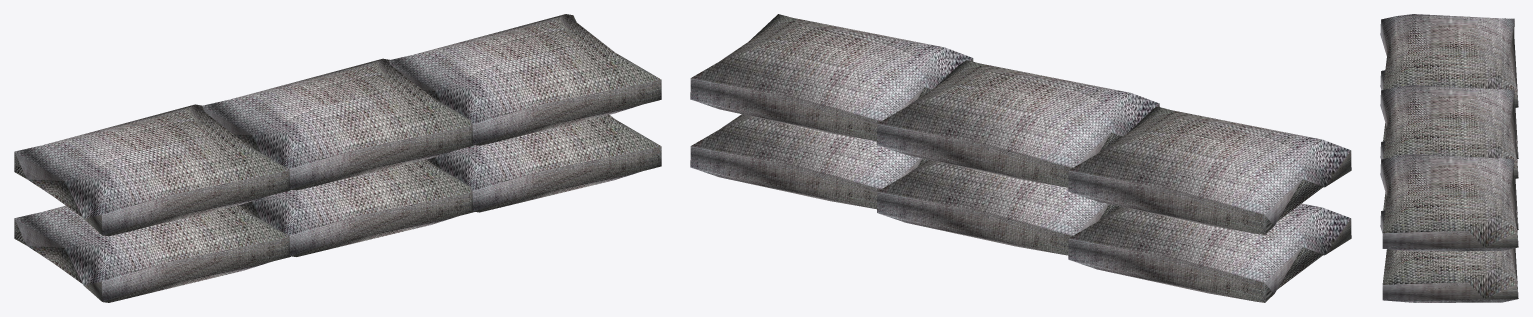
Rendered from SaddleBag02.obj.
The picture shows the model from 3 angles, left to right: view 1: azimuth 30°, elevation 25°; view 2: azimuth 150°, elevation 25°; view 3: azimuth 270°, elevation 25°; orthographic projection. The views are drawn at different scales.
Visible parts, largest first — view 1: Box023, Box019, Box021, Box011, Box005, Box008; view 2: Box023, Box019, Box021, Box011, Box005, Box008; view 3: Box021, Box023, Box019, Box008, Box011, Box005.
Part boxes in pixels (x1,y1,x2,y2): Box023: (14, 104, 290, 236); Box019: (202, 58, 478, 190); Box021: (389, 14, 661, 145); Box011: (14, 205, 290, 302); Box005: (239, 159, 478, 256); Box008: (427, 115, 661, 212); Box023: (1068, 106, 1351, 234); Box019: (877, 60, 1159, 187); Box021: (690, 14, 973, 141); Box011: (1068, 203, 1351, 302); Box005: (877, 159, 1119, 255); Box008: (690, 114, 927, 209); Box021: (1380, 154, 1518, 251); Box023: (1380, 14, 1518, 108); Box019: (1380, 85, 1518, 178); Box008: (1380, 210, 1518, 302); Box011: (1380, 70, 1518, 158); Box005: (1380, 141, 1518, 229).
Size of the model in its own units: 11.5 by 2.68 by 3.16.
